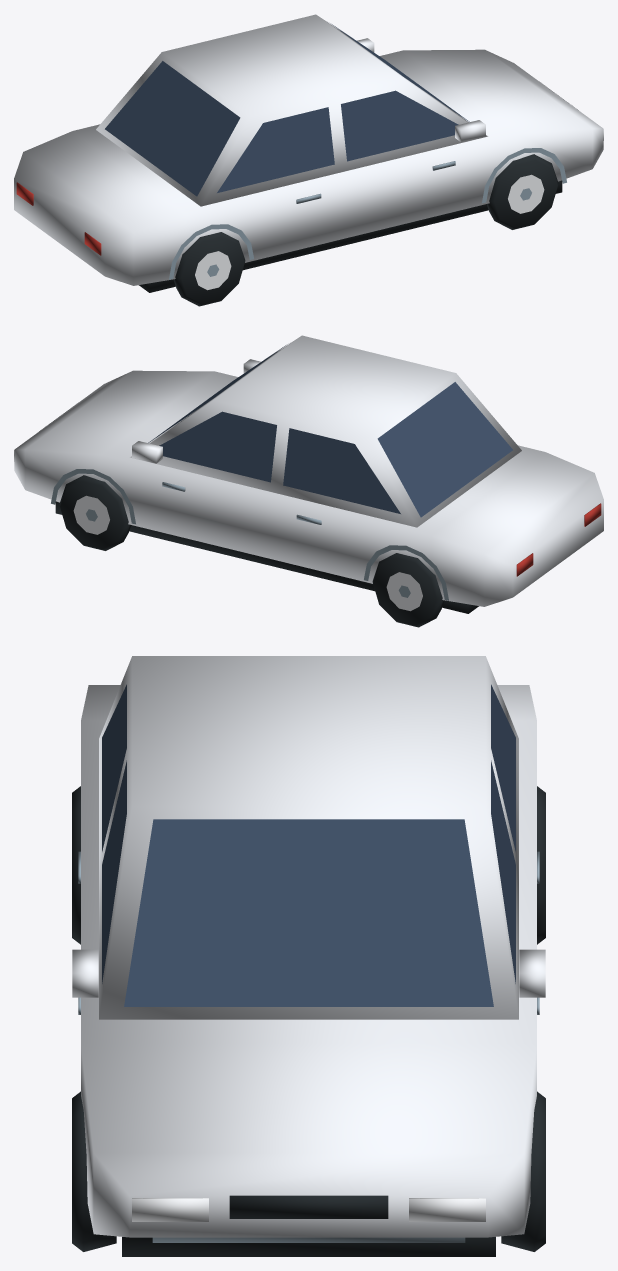
File: SM_MPR_Env_Car_0.fbx
3 views of the same model, one above another, from view 1: azimuth 30°, elevation 25°; view 2: azimuth 150°, elevation 25°; view 3: azimuth 270°, elevation 25° (orthographic). The views are drawn at different scales.
Visible parts, largest first — view 1: SM_MPR_Env_Car_0; view 2: SM_MPR_Env_Car_0; view 3: SM_MPR_Env_Car_0.
Part boxes in pixels (left/top/right/bottom): SM_MPR_Env_Car_0: left=14, top=14, right=603, bottom=306; SM_MPR_Env_Car_0: left=14, top=335, right=603, bottom=627; SM_MPR_Env_Car_0: left=72, top=656, right=545, bottom=1256.
Bounding box in the file's own units: 452 × 185 × 142.
